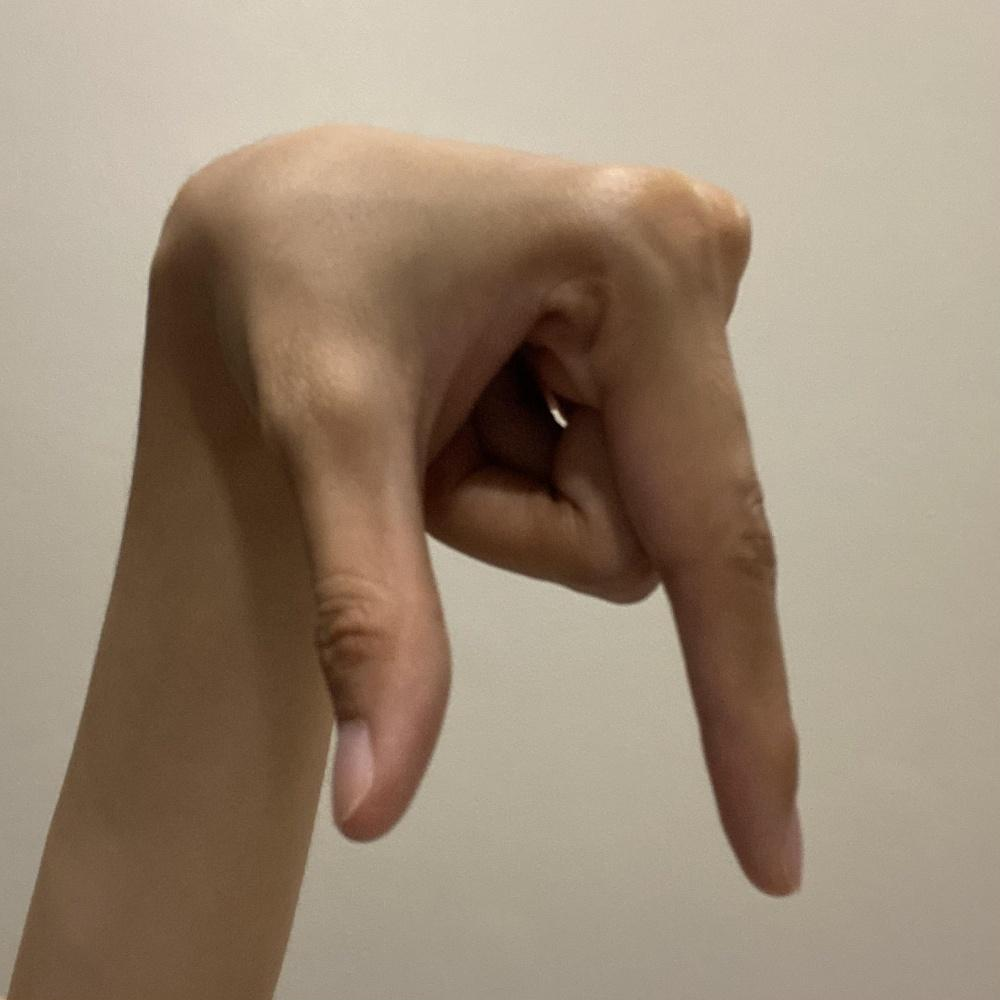q: (236, 119, 814, 907)
